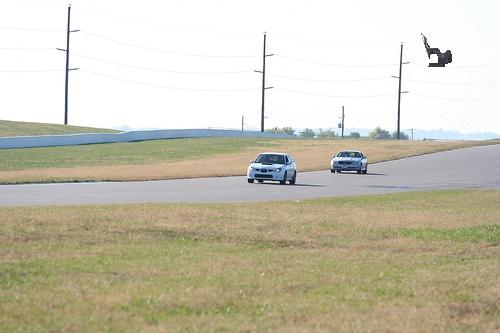tampered: (422, 34, 452, 67)
